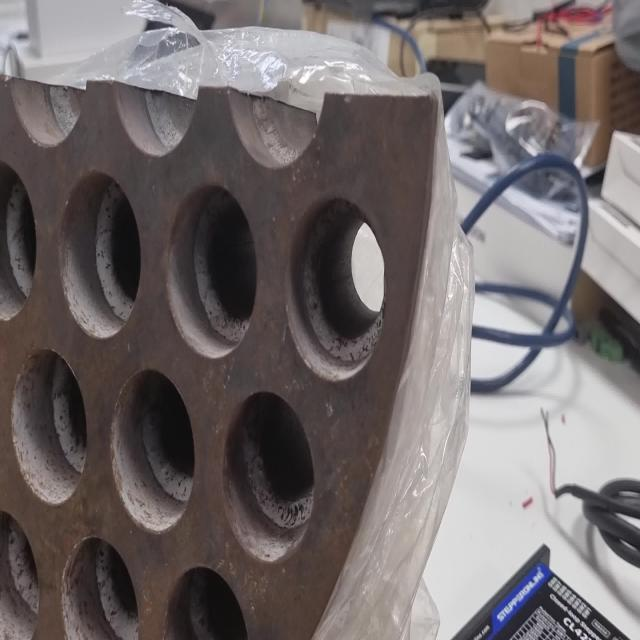Hole: (287, 194, 386, 381), (164, 182, 258, 360), (223, 391, 315, 563), (110, 367, 195, 534), (58, 170, 141, 340), (10, 348, 88, 506), (60, 534, 140, 640), (163, 563, 251, 639), (0, 508, 40, 640)
